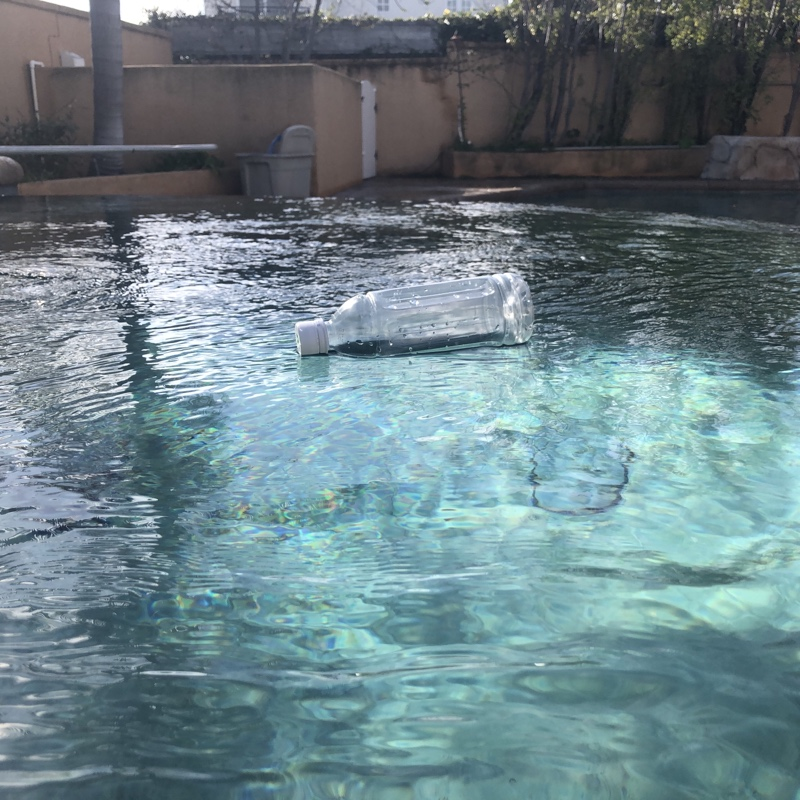Plastic Bottle: (288, 268, 538, 365)
